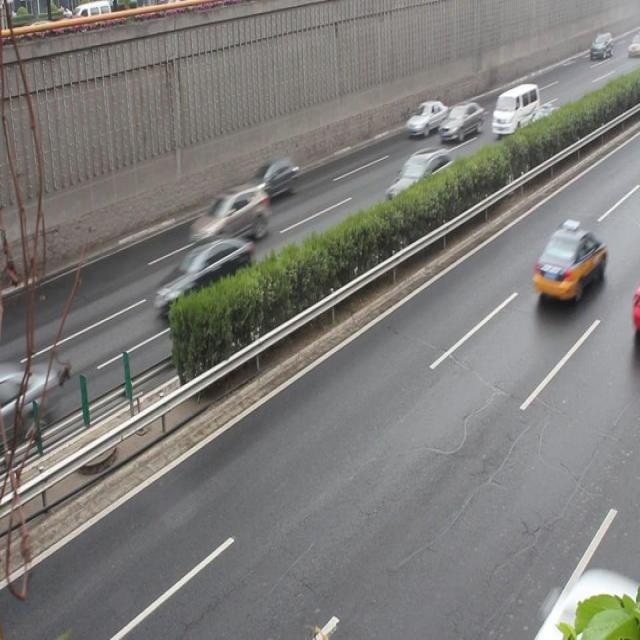car: (154, 236, 252, 320), (532, 223, 604, 303), (188, 182, 268, 248), (384, 147, 454, 209), (1, 359, 55, 433), (246, 154, 296, 200), (403, 99, 447, 140), (438, 102, 482, 142), (519, 105, 561, 145)
truck: (489, 82, 538, 132)
